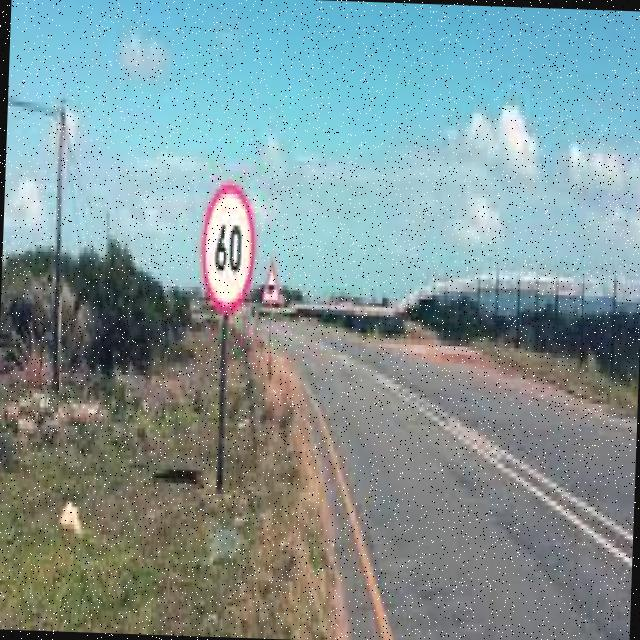Ograniczenie predkosci do 60: (198, 176, 259, 324)
